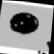correct: (5, 8, 44, 39)
